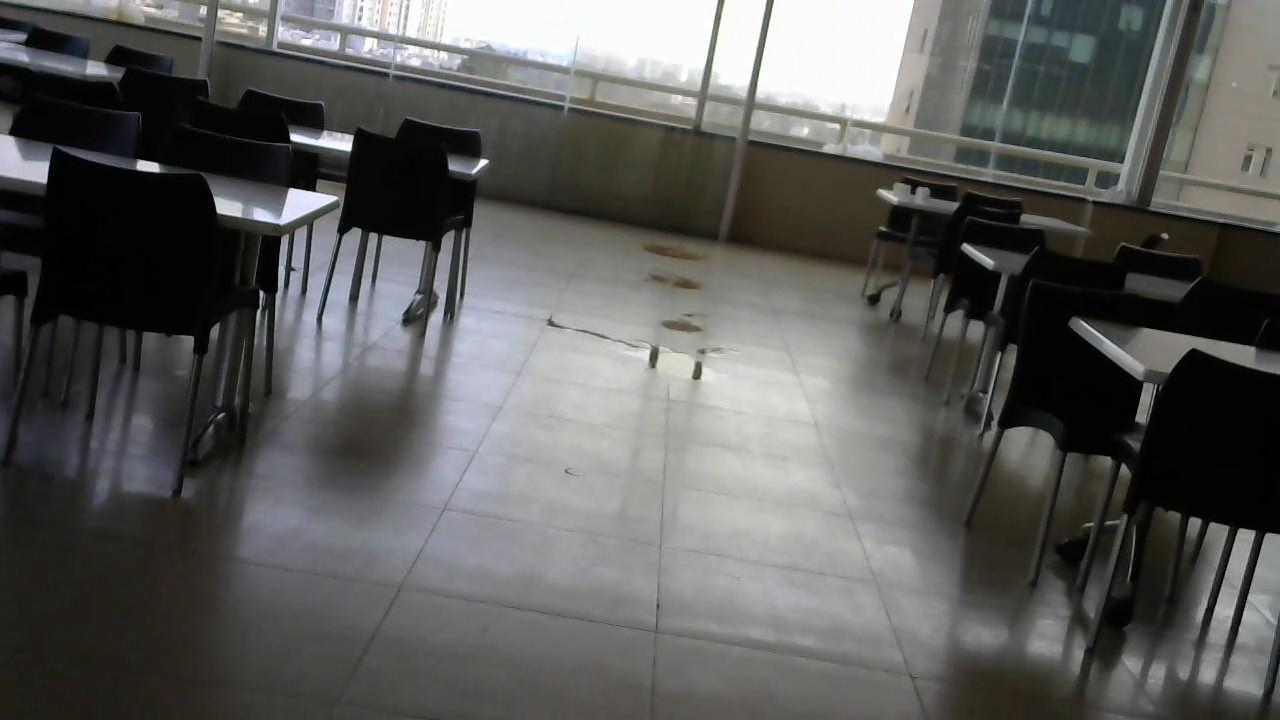dirty_floor: (539, 312, 746, 383), (640, 240, 709, 265), (640, 271, 709, 292)
